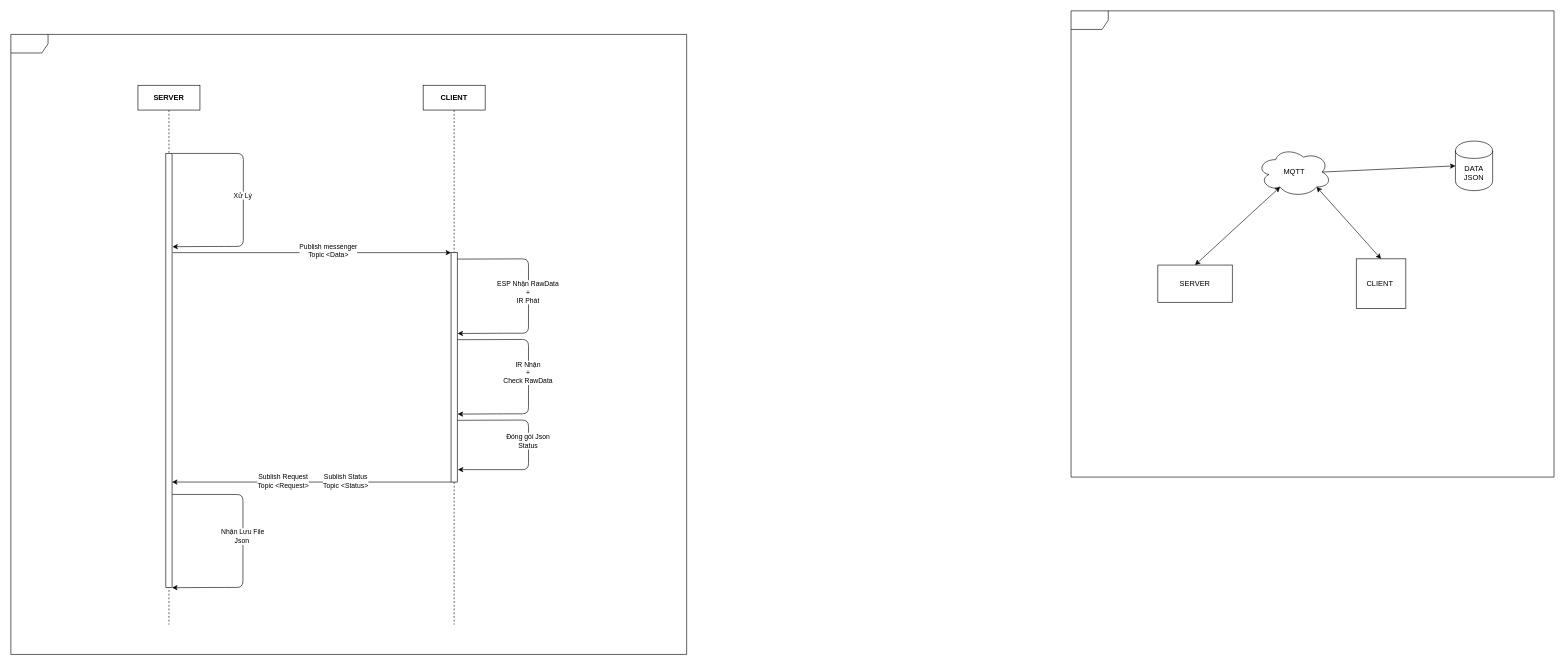
This 1565x665 diagram has some shape labels left out. The centre of each missing label's shape, as x and y in pixels:
frame: (1312,243)
LOOP: (348,344)
